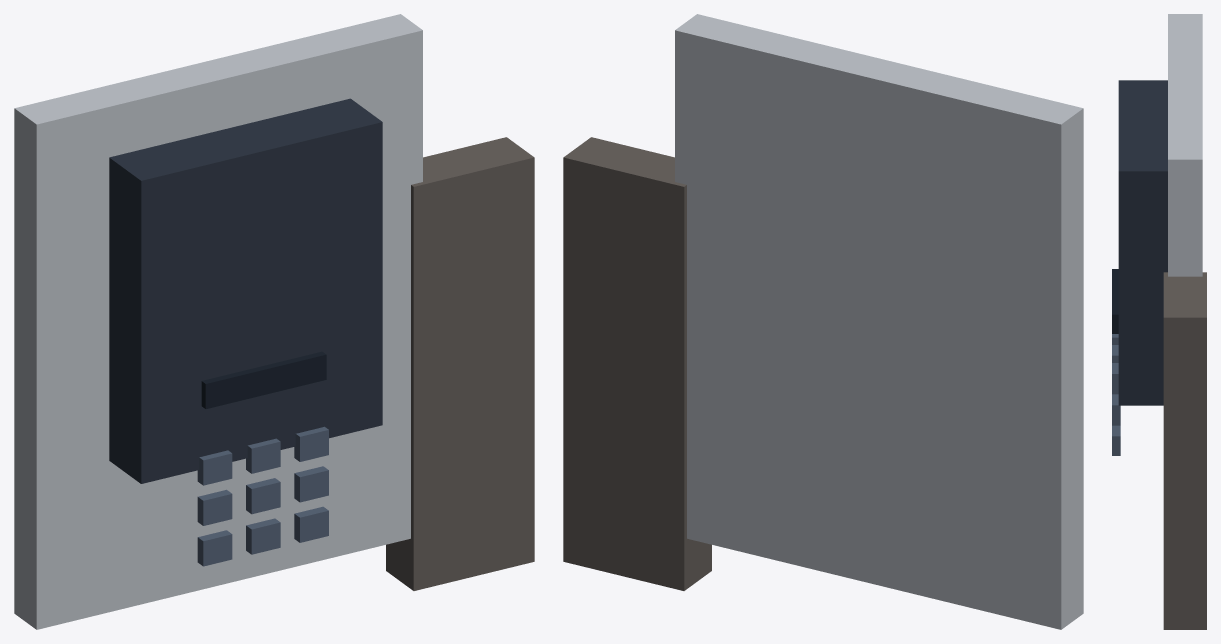
The model's file is yard-access-node-body-authored-vertex-colour-tripo-finish.glb.
3 renders of one model, left to right at view 1: azimuth 30°, elevation 25°; view 2: azimuth 150°, elevation 25°; view 3: azimuth 270°, elevation 25°, orthographic. The views are drawn at different scales.
Parts seen in each view (by area): view 1: Authored shadows false:false; view 2: Authored shadows false:false; view 3: Authored shadows false:false.
Part boxes in pixels (left/top/right/bottom): Authored shadows false:false: left=14, top=14, right=534, bottom=629; Authored shadows false:false: left=563, top=14, right=1083, bottom=629; Authored shadows false:false: left=1112, top=14, right=1206, bottom=629.
Bounding box in the file's own units: 0.9318 × 1 × 0.2.
